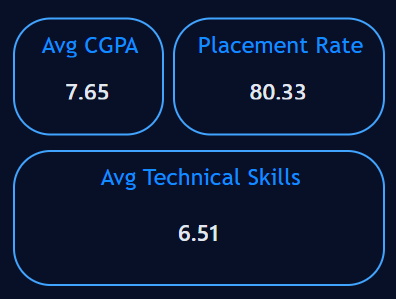

Layout of this report page (visuals, bound fields, positions):
{"tool":"powerbi","page":{"name":"Tooltip Page","canvas":[320,240],"ordinal":3},"visuals":[{"type":"cardVisual","title":"Avg CGPA","fields":{"Data":["Avg(student_data.CGPA)"]},"box":[12,14,121,95],"z":0},{"type":"cardVisual","title":"Placement Rate","fields":{"Data":["student_data.Placement Rate"]},"box":[140,14,170,95],"z":1000},{"type":"cardVisual","title":"Avg Technical Skills","fields":{"Data":["student_data.Avg Technical Skills"]},"box":[12,120,298,109],"z":2000}]}

Visuals, with their boxes in screenshot pixels (x1, y1, x2, y2), scaled from the page's 320x240 canvas onto the 396x299 screenshot:
"Avg CGPA" cardVisual: [x1=15, y1=17, x2=165, y2=136]
"Placement Rate" cardVisual: [x1=173, y1=17, x2=384, y2=136]
"Avg Technical Skills" cardVisual: [x1=15, y1=150, x2=384, y2=285]
